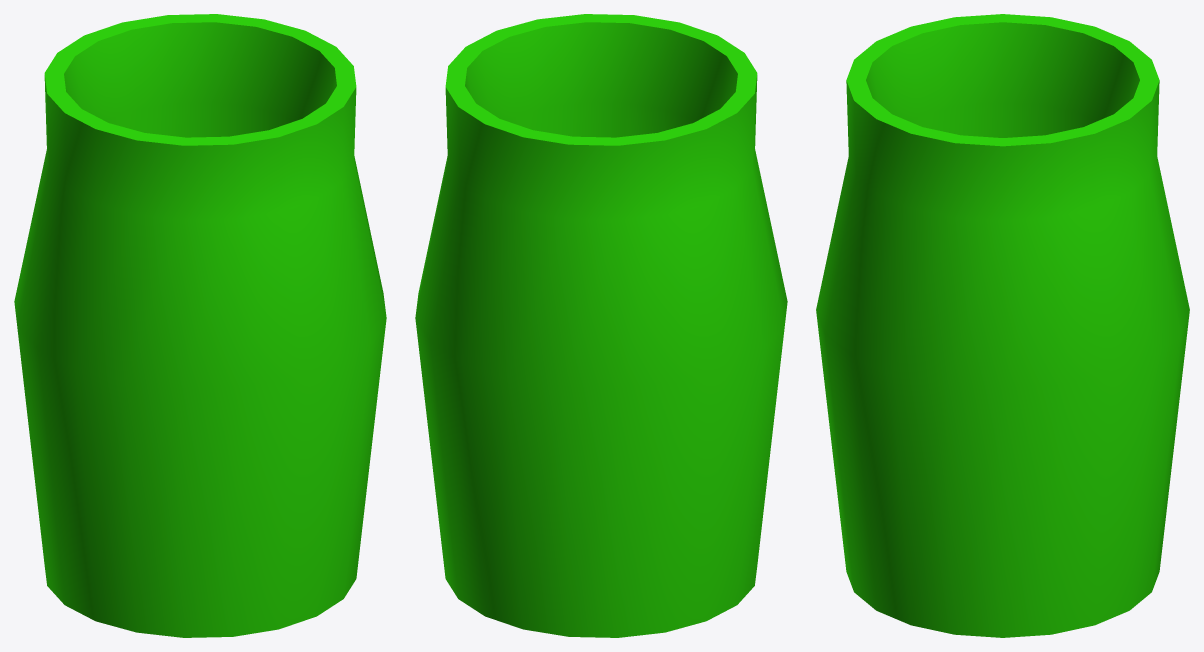
The model's file is Vase_01.fbx.
3 renders of one model, left to right at view 1: azimuth 30°, elevation 25°; view 2: azimuth 150°, elevation 25°; view 3: azimuth 270°, elevation 25°, orthographic.
Visible parts, largest first — view 1: Vase_01; view 2: Vase_01; view 3: Vase_01.
Part boxes in pixels (x1=…): Vase_01: x1=14, y1=14, x2=386, y2=637; Vase_01: x1=415, y1=14, x2=787, y2=637; Vase_01: x1=816, y1=14, x2=1189, y2=637.
Bounding box in the file's own units: 14.98 × 21.73 × 14.97.
